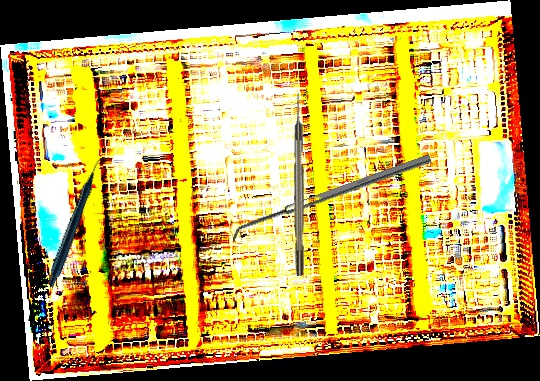Handpiece: (6, 155, 149, 289)
Hook Surgical: (294, 92, 304, 276)
Spatula Surgical: (228, 154, 435, 243)
